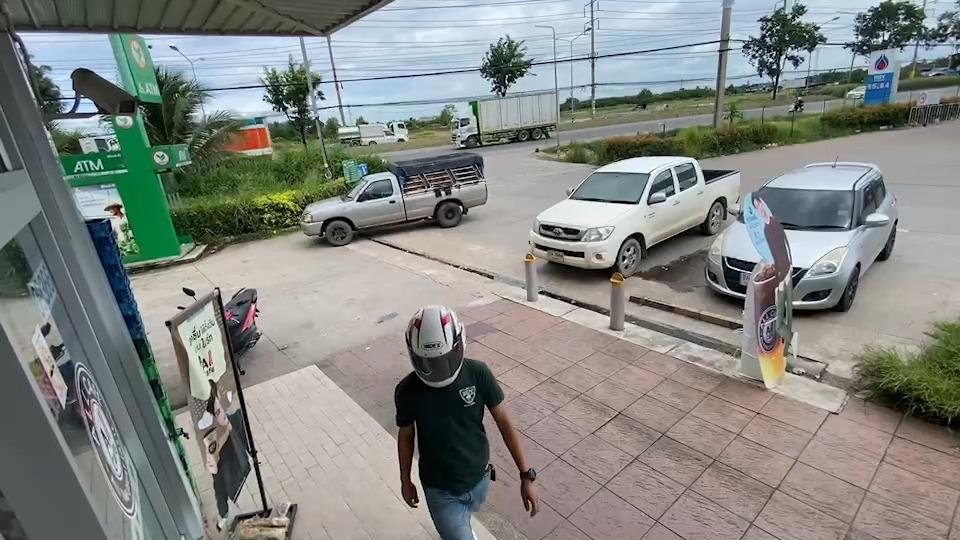criminal: (392, 306, 541, 540)
